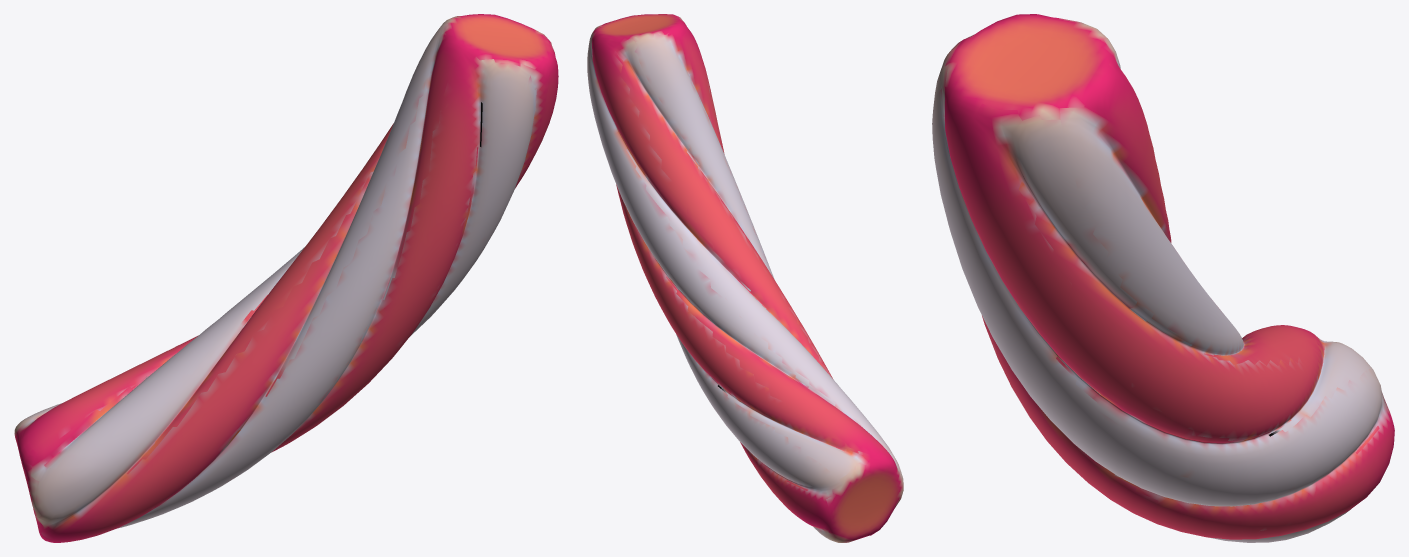
Rendered from twister_003.obj.
3 renders of one model, left to right at view 1: azimuth 30°, elevation 25°; view 2: azimuth 150°, elevation 25°; view 3: azimuth 270°, elevation 25°, orthographic. The views are drawn at different scales.
Parts seen in each view (by area): view 1: twister.003; view 2: twister.003; view 3: twister.003.
Boxes of the visible parts, left/top/right/bottom form: twister.003: left=14, top=14, right=558, bottom=542; twister.003: left=587, top=14, right=903, bottom=542; twister.003: left=932, top=14, right=1394, bottom=542.
Bounding box in the file's own units: 1.15 × 1.2 × 0.6913.
Materials: 1 (1 with a texture image).
